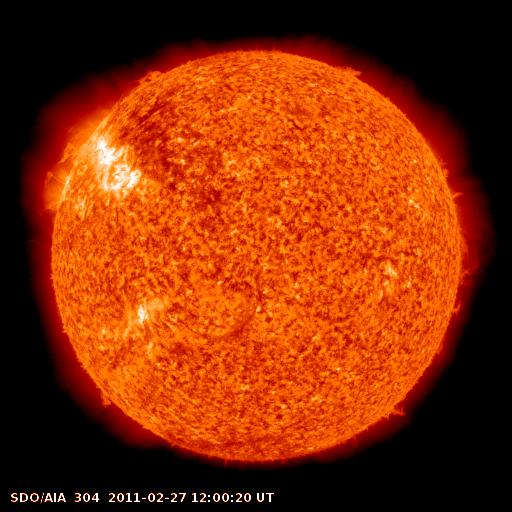prominence: (118, 61, 175, 109), (83, 376, 132, 421), (325, 52, 377, 93), (377, 391, 415, 429)
